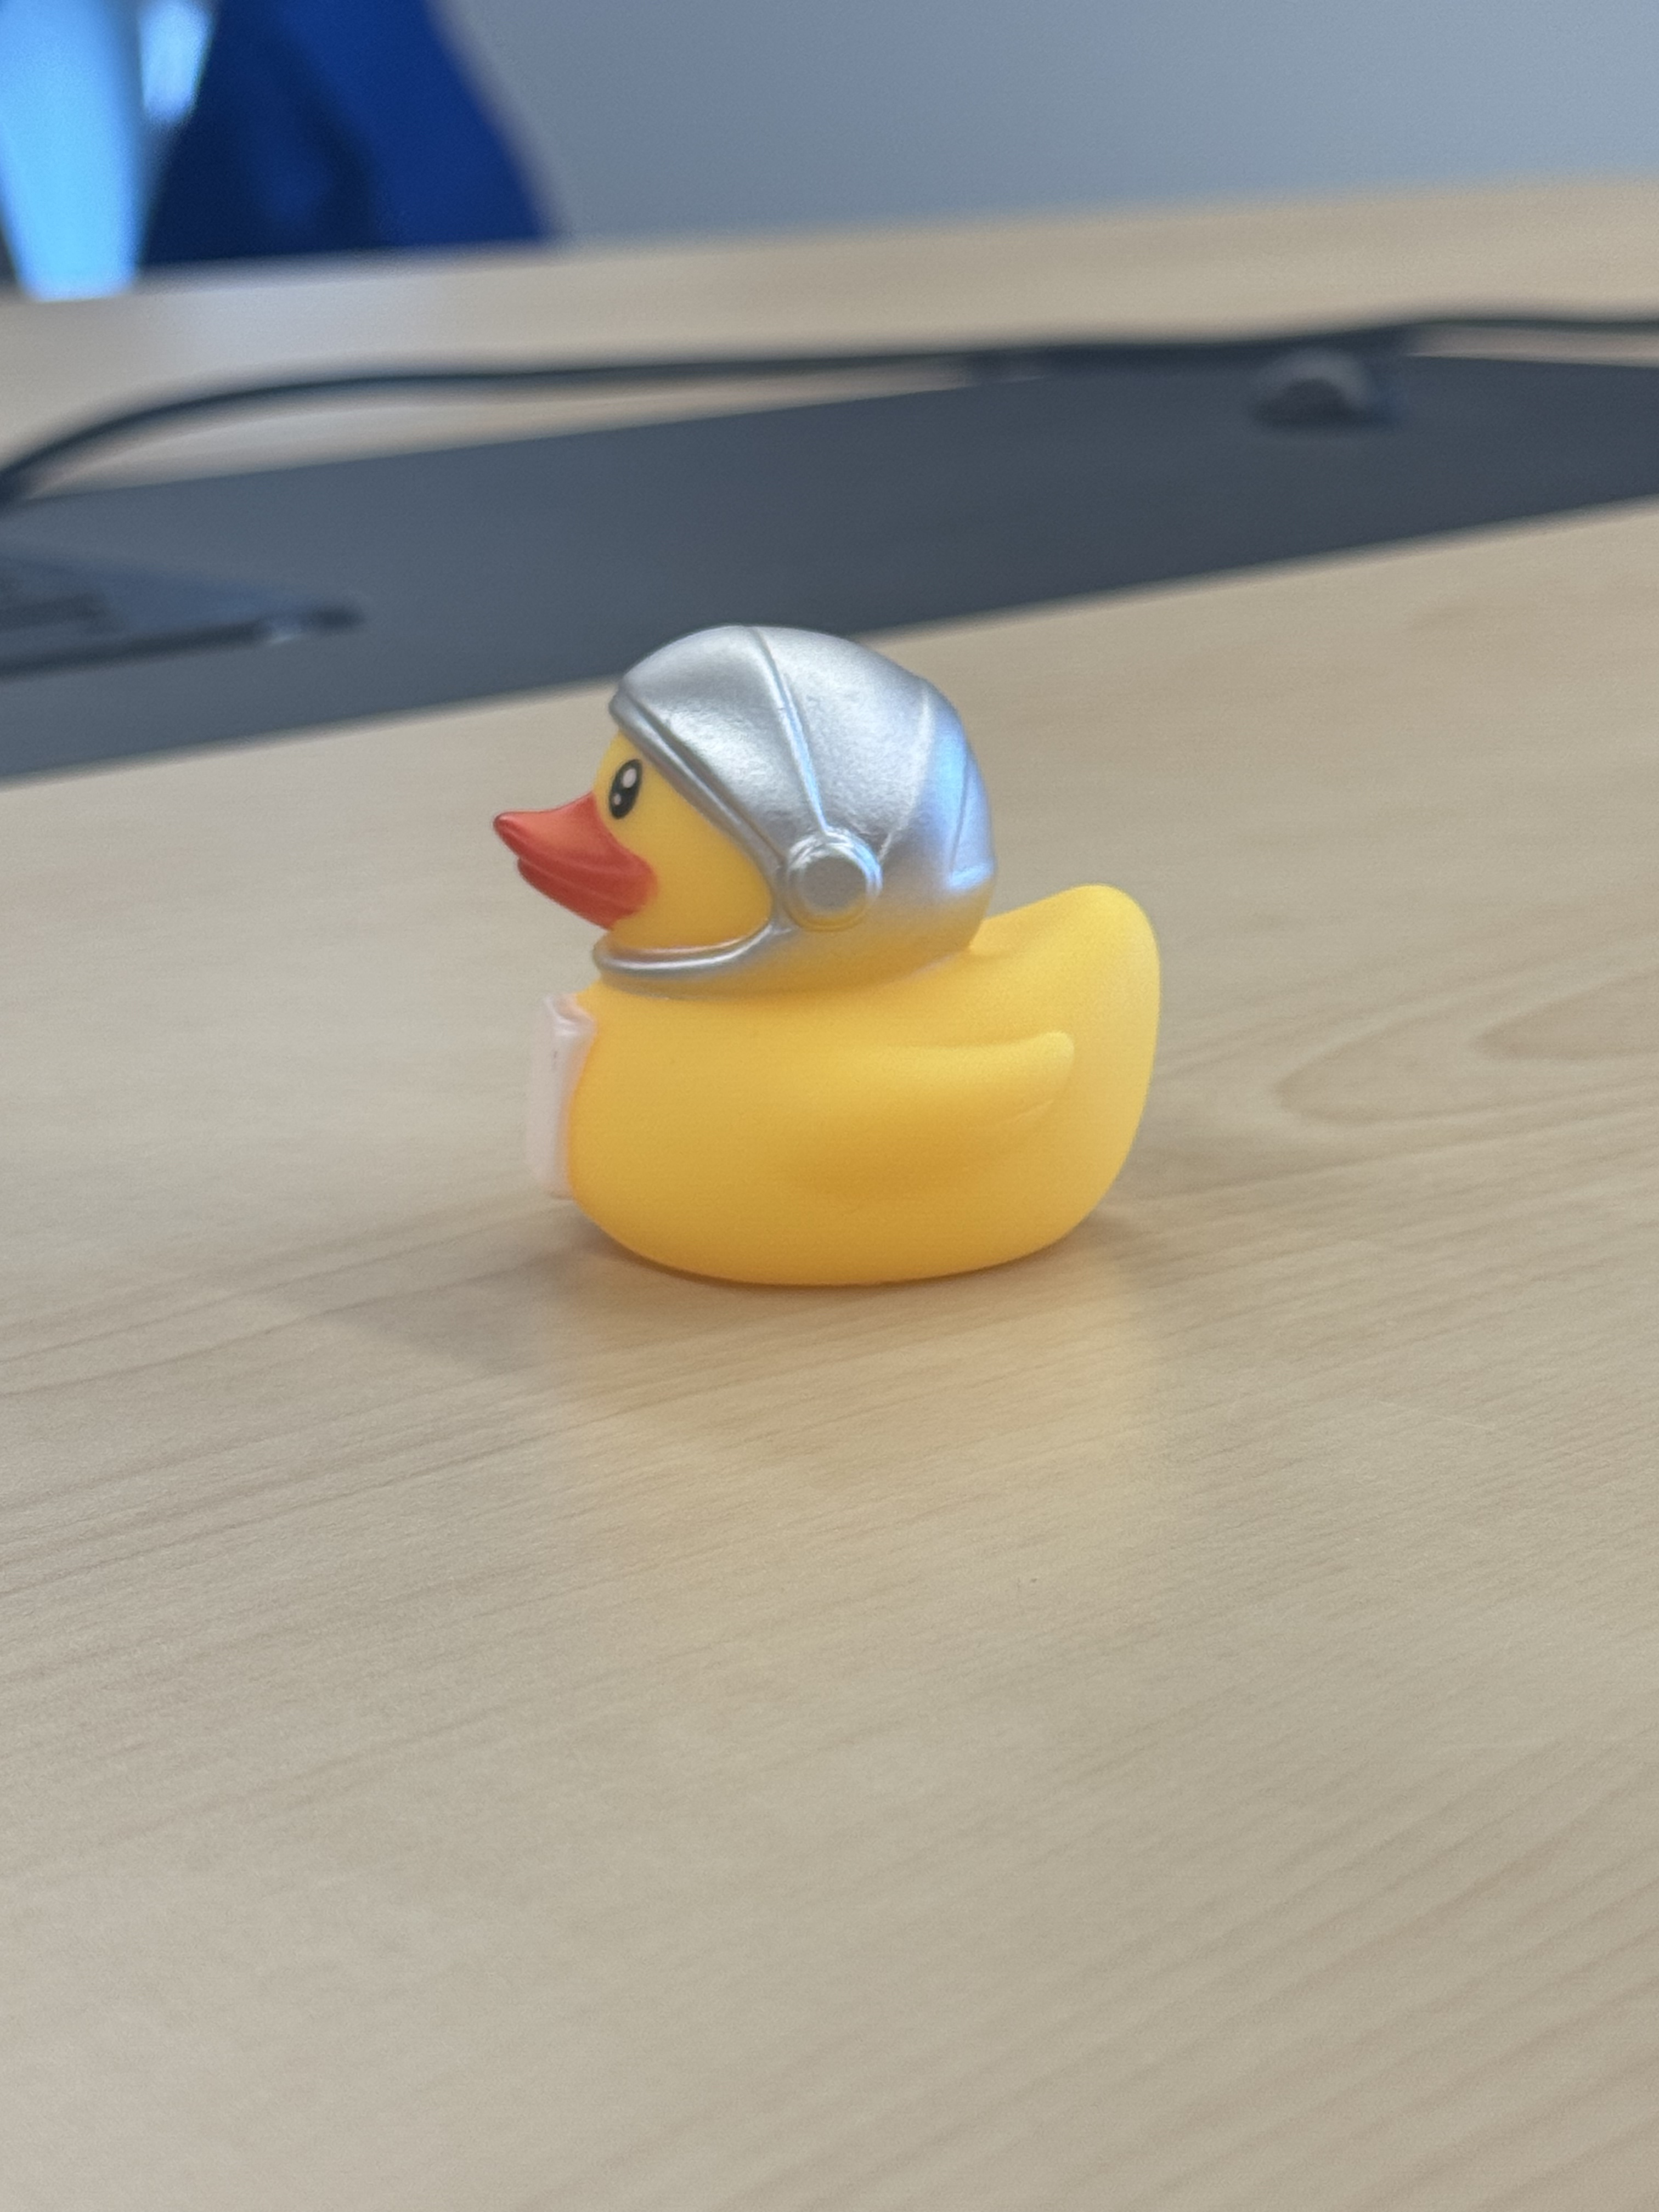duck_specialty: (490, 610, 1171, 1303)
